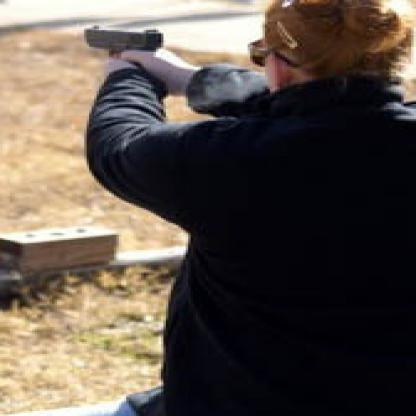gun: (80, 24, 173, 98)
